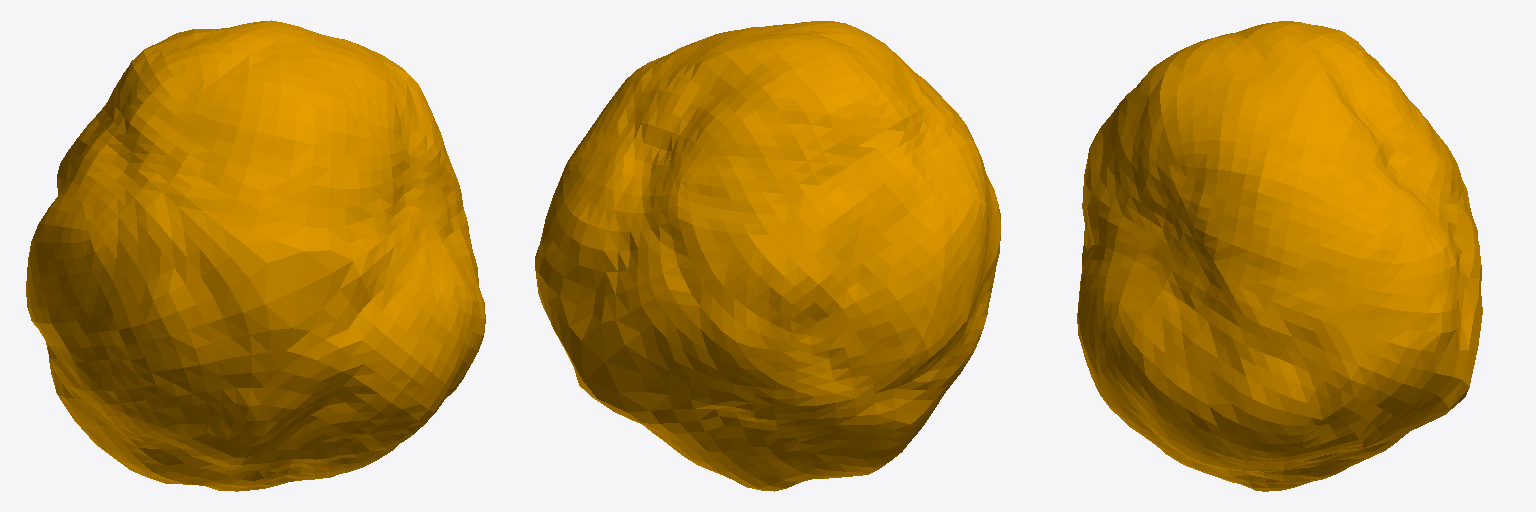
URDF robot description (rock):
<?xml version="1.0" ?>
<robot name="rock">
  <link name="rock">
    <inertial>
      <mass value="0.289"/>
      <origin rpy="0 0 0" xyz="0 0 0"/>
      <inertia ixx="0.000289" ixy="0" ixz="0" iyy="0.000289" iyz="0" izz="0.000289"/>
    </inertial>
    <collision name="rock_collision">
      <origin rpy="0 0 0" xyz="0 0 0"/>
      <geometry>
        <mesh filename="package://rocks/visual/69.dae" scale="1 1 1"/>
      </geometry>
    </collision>
    <visual name="rock_visual">
      <origin rpy="0 0 0" xyz="0 0 0"/>
      <geometry>
        <mesh filename="package://rocks/visual/69.dae" scale="1 1 1"/>
      </geometry>
    </visual>
  </link>
</robot>

--- What the picture shows (computed from the rendered views, not written in the file) ---
Views: 3 orthographic renders of the robot side by side, from view 1: azimuth 30°, elevation 25°; view 2: azimuth 150°, elevation 25°; view 3: azimuth 270°, elevation 25°.
Model rock with 1 links and 0 joints (none), rooted at rock, posed every joint at zero.
Visible links, largest first — view 1: rock; view 2: rock; view 3: rock.
Link boxes in pixels (x1=…): rock: x1=26, y1=20, x2=485, y2=491; rock: x1=535, y1=21, x2=1000, y2=491; rock: x1=1077, y1=21, x2=1482, y2=491.
Bounding box of the posed robot: 0.0988 × 0.0894 × 0.1037 m (x, y, z).
1 mesh visuals loaded from 1 distinct referenced files (1 Collada DAE).